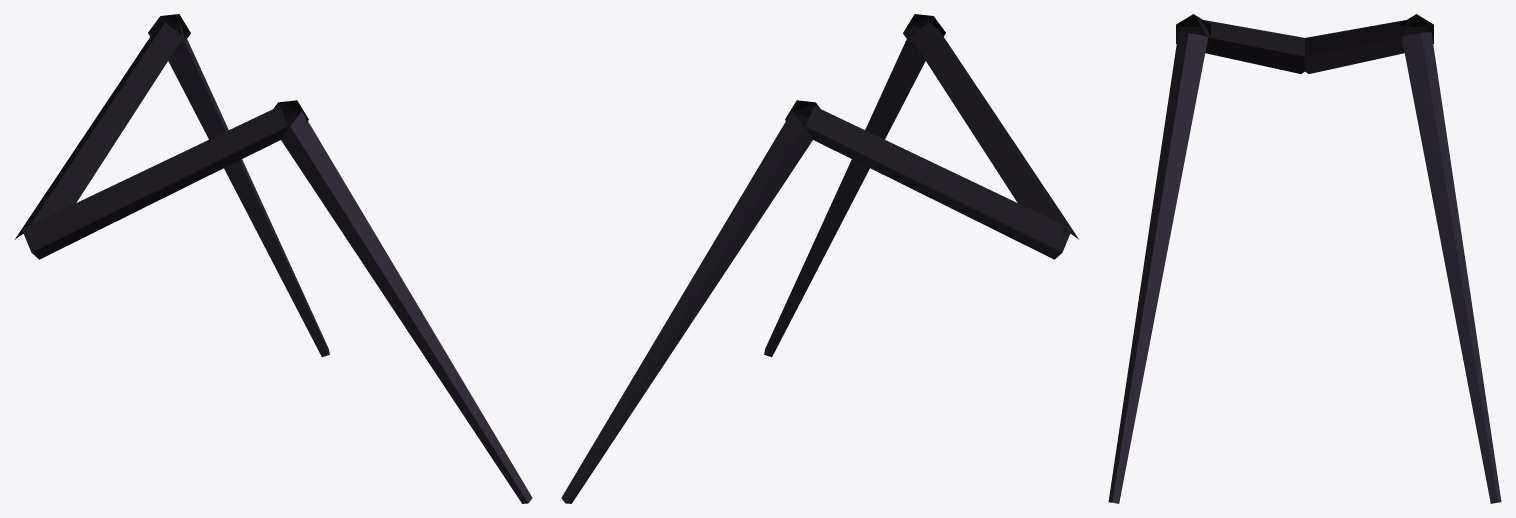
File: dk_mob_spider_legs_r.glb
3 renders of one model, left to right at view 1: azimuth 30°, elevation 25°; view 2: azimuth 150°, elevation 25°; view 3: azimuth 270°, elevation 25°, orthographic. The views are drawn at different scales.
Parts seen in each view (by area): view 1: dk_mob_spider_legs_r; view 2: dk_mob_spider_legs_r; view 3: dk_mob_spider_legs_r.
Boxes of the visible parts, x1,y1,x2,y2 form: dk_mob_spider_legs_r: (14,14,532,503); dk_mob_spider_legs_r: (561,14,1079,503); dk_mob_spider_legs_r: (1108,14,1501,503).
Bounding box in the file's own units: 1.96 × 1.92 × 1.73.
Materials: 1 (1 with a texture image).
